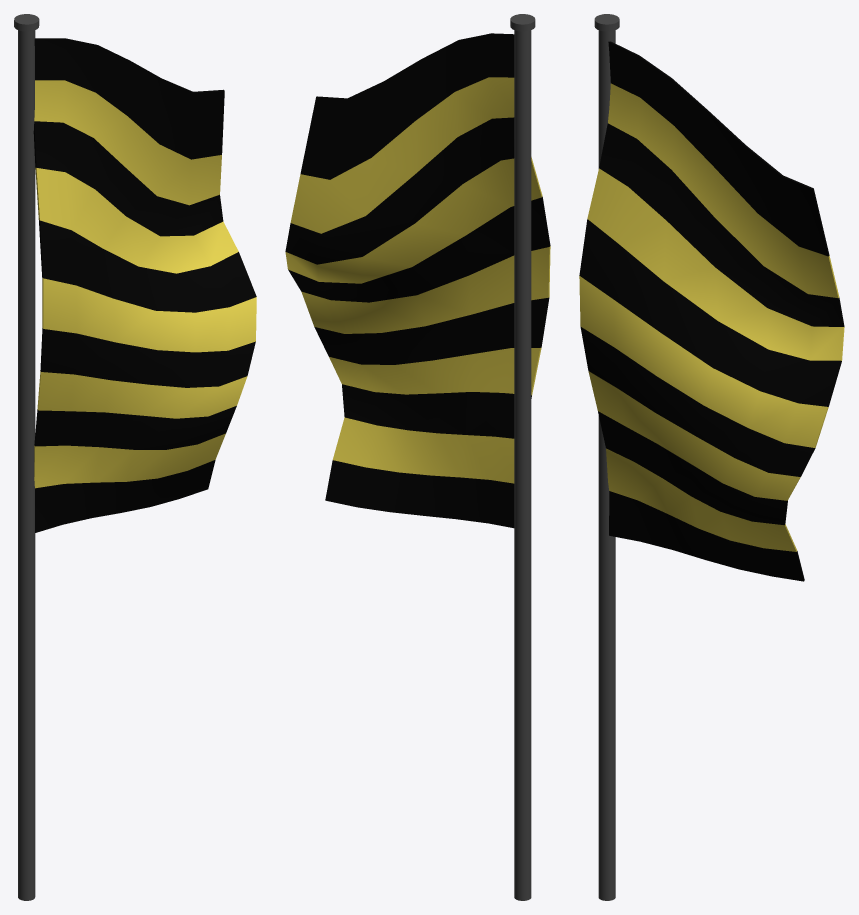
The model's file is flag.fbx.
3 views of the same model, side by side, from view 1: azimuth 30°, elevation 25°; view 2: azimuth 150°, elevation 25°; view 3: azimuth 330°, elevation 25° (orthographic).
Visible parts, largest first — view 1: Plane, Cylinder; view 2: Plane, Cylinder; view 3: Plane, Cylinder.
Boxes of the visible parts, <box> form: Plane: <box>33,38,256,532</box>; Cylinder: <box>14,14,39,900</box>; Plane: <box>285,33,550,528</box>; Cylinder: <box>510,14,535,900</box>; Plane: <box>579,41,844,581</box>; Cylinder: <box>594,14,619,900</box>.
Size of the model in its own units: 273 by 968 by 85.93.
